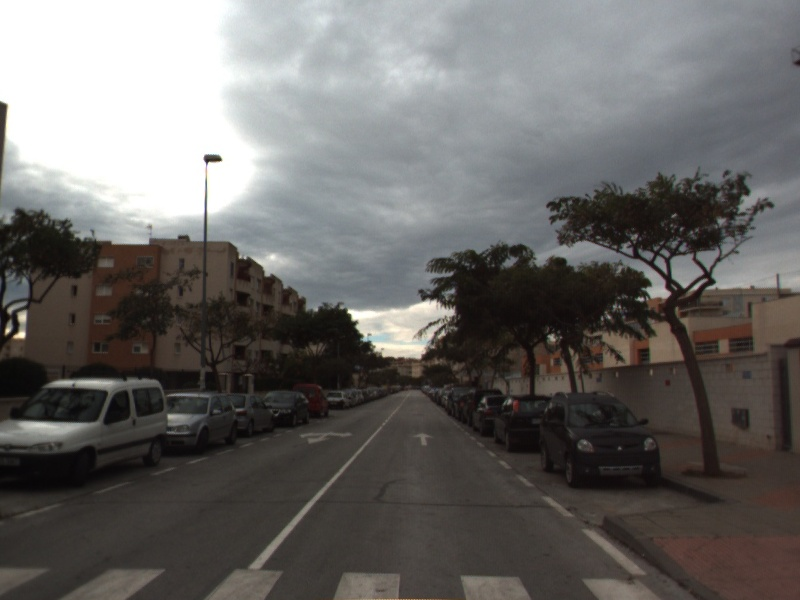STRAIGHT: (410, 431, 436, 447)
